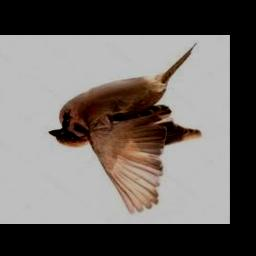Sparrow: (49, 43, 201, 215)
